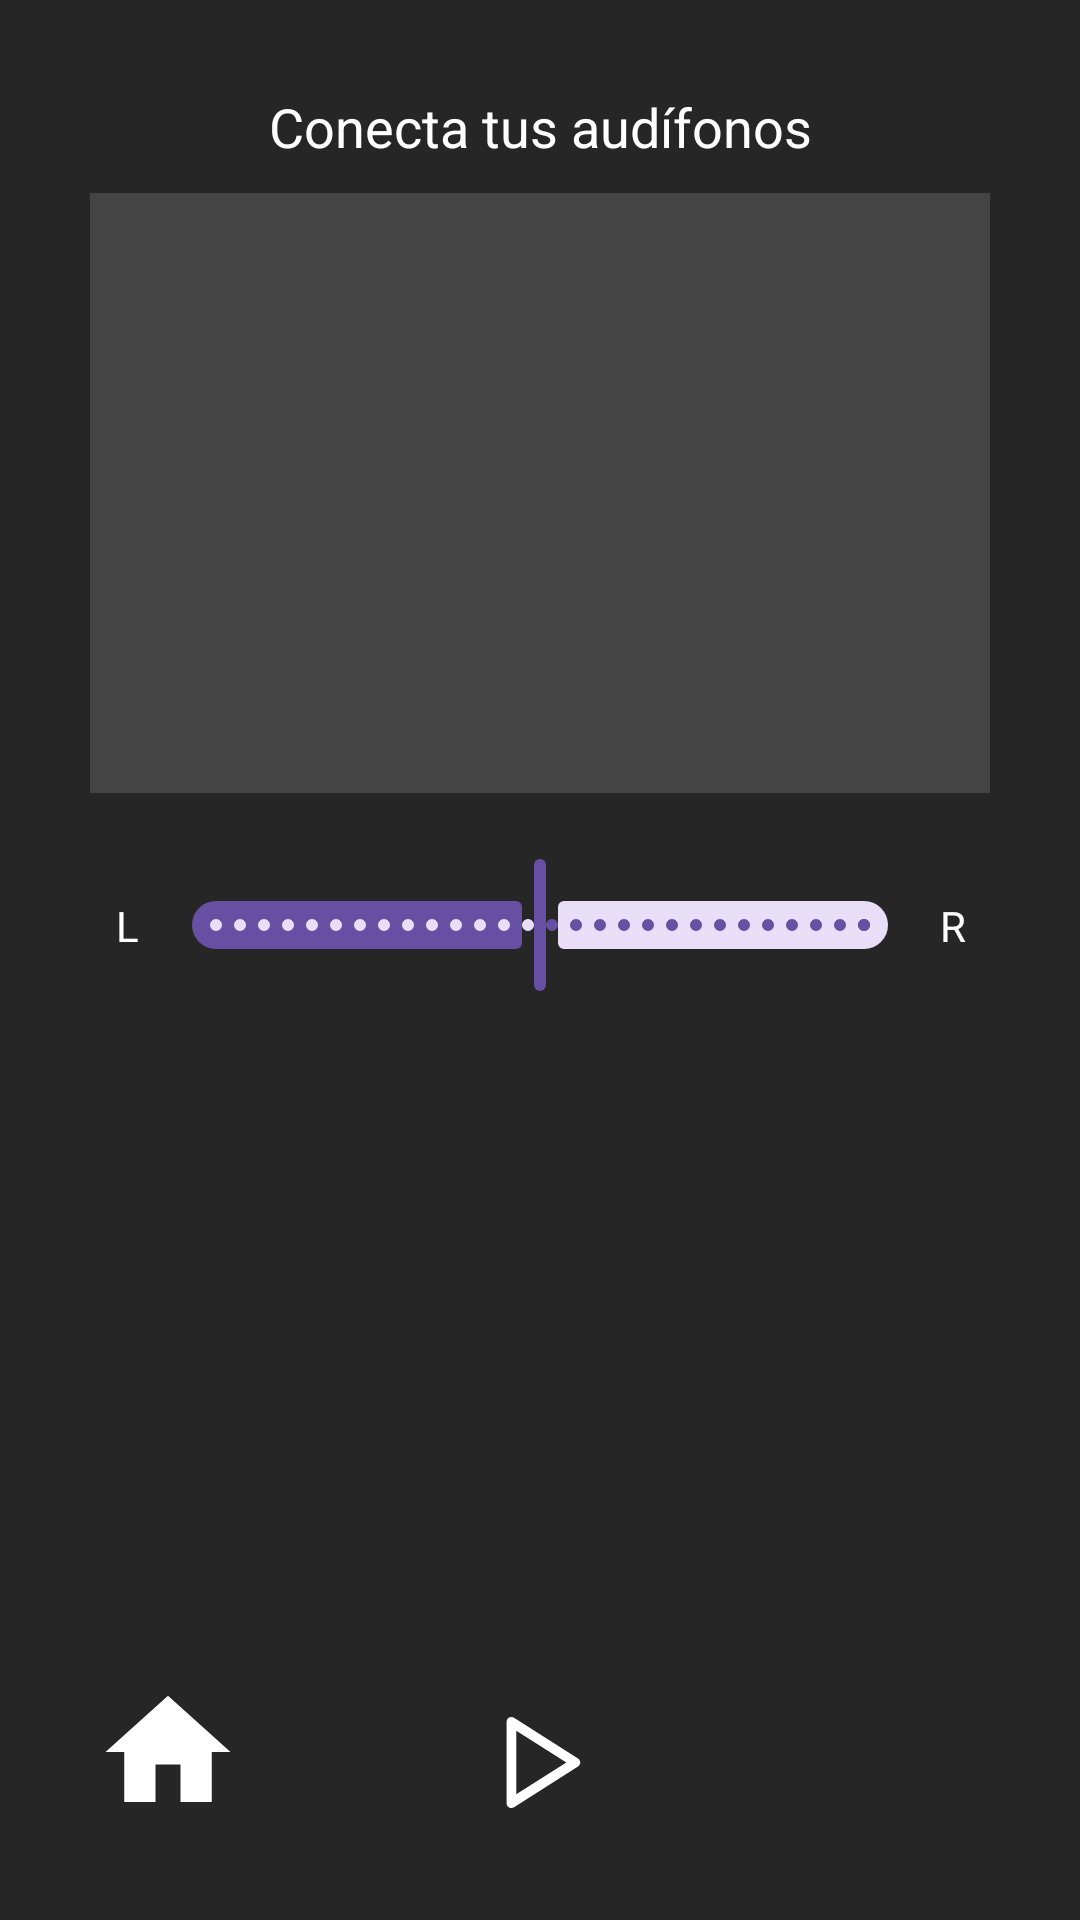

Locate icon controls on the screen. Image size 1080 × 1920, boxes as (x1, y1, x2, y2).
Reproducir o pausar: (506, 1717, 581, 1808)
Volver al inicio: (106, 1696, 230, 1802)
